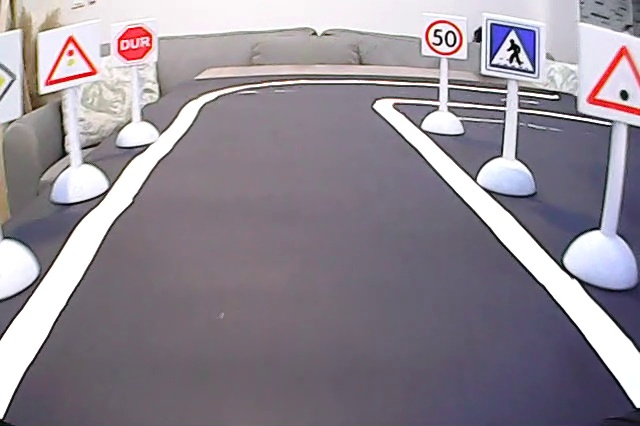green light: (581, 34, 640, 116)
pedestrian crossing: (485, 17, 541, 77)
red light: (37, 32, 100, 86)
speed limit 50: (427, 15, 465, 58)
stop sign: (112, 24, 159, 67)
